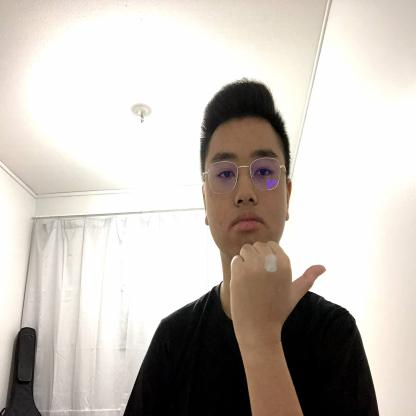left: (227, 239, 328, 334)
